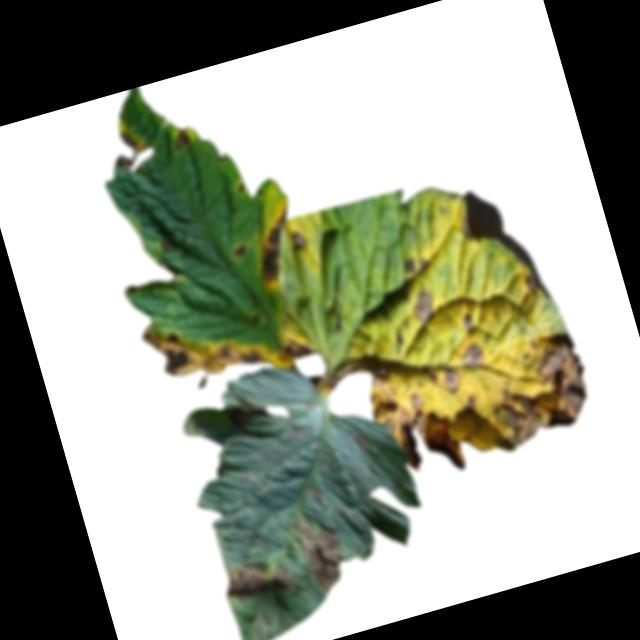Early_blight: (468, 325, 601, 455), (138, 295, 273, 398), (367, 368, 472, 492), (218, 546, 306, 611), (244, 203, 308, 288), (290, 509, 351, 598), (320, 347, 395, 397), (107, 123, 153, 174), (272, 326, 315, 367), (406, 286, 442, 326), (458, 342, 488, 372), (167, 125, 196, 154), (286, 227, 310, 255), (442, 367, 463, 394), (228, 237, 248, 260), (461, 307, 477, 334), (522, 275, 540, 297), (402, 255, 419, 276), (233, 177, 246, 195)
